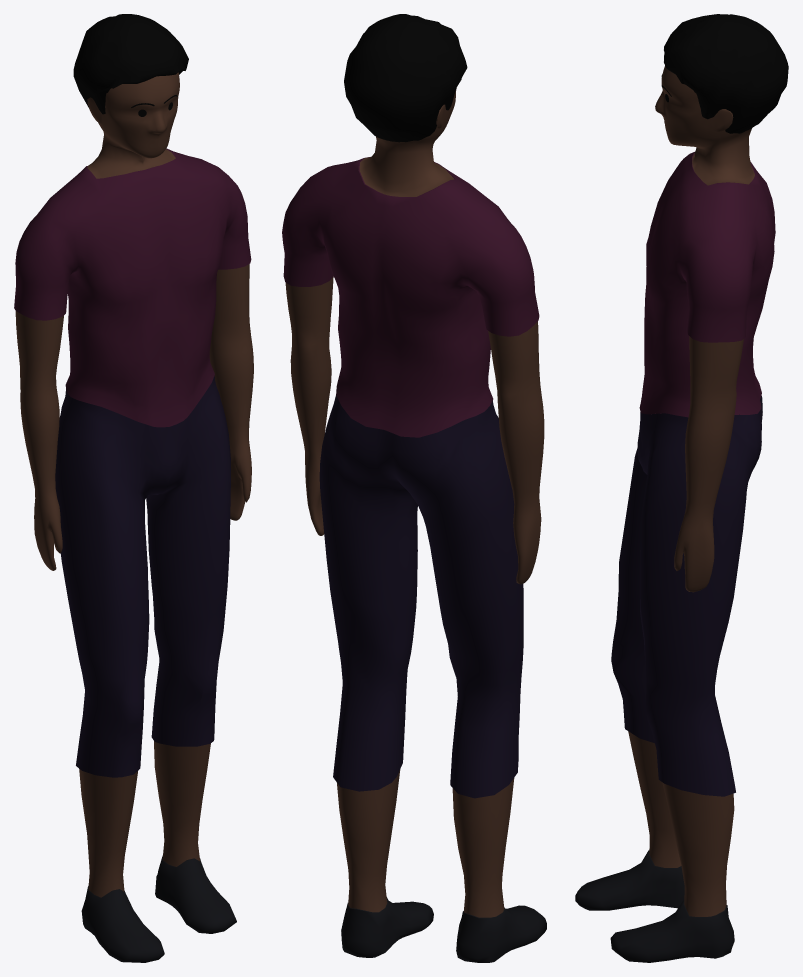
Rendered from Male_Gazing.glb.
The picture shows the model from 3 angles, left to right: view 1: azimuth 30°, elevation 25°; view 2: azimuth 150°, elevation 25°; view 3: azimuth 270°, elevation 25°; orthographic projection. The views are drawn at different scales.
Visible parts, largest first — view 1: Male-Gazing; view 2: Male-Gazing; view 3: Male-Gazing.
Part boxes in pixels (x1,y1,x2,y2): Male-Gazing: [14, 14, 253, 962]; Male-Gazing: [282, 14, 546, 962]; Male-Gazing: [575, 14, 788, 962].
Size of the model in its own units: 0.4588 by 1.7 by 0.3591.
